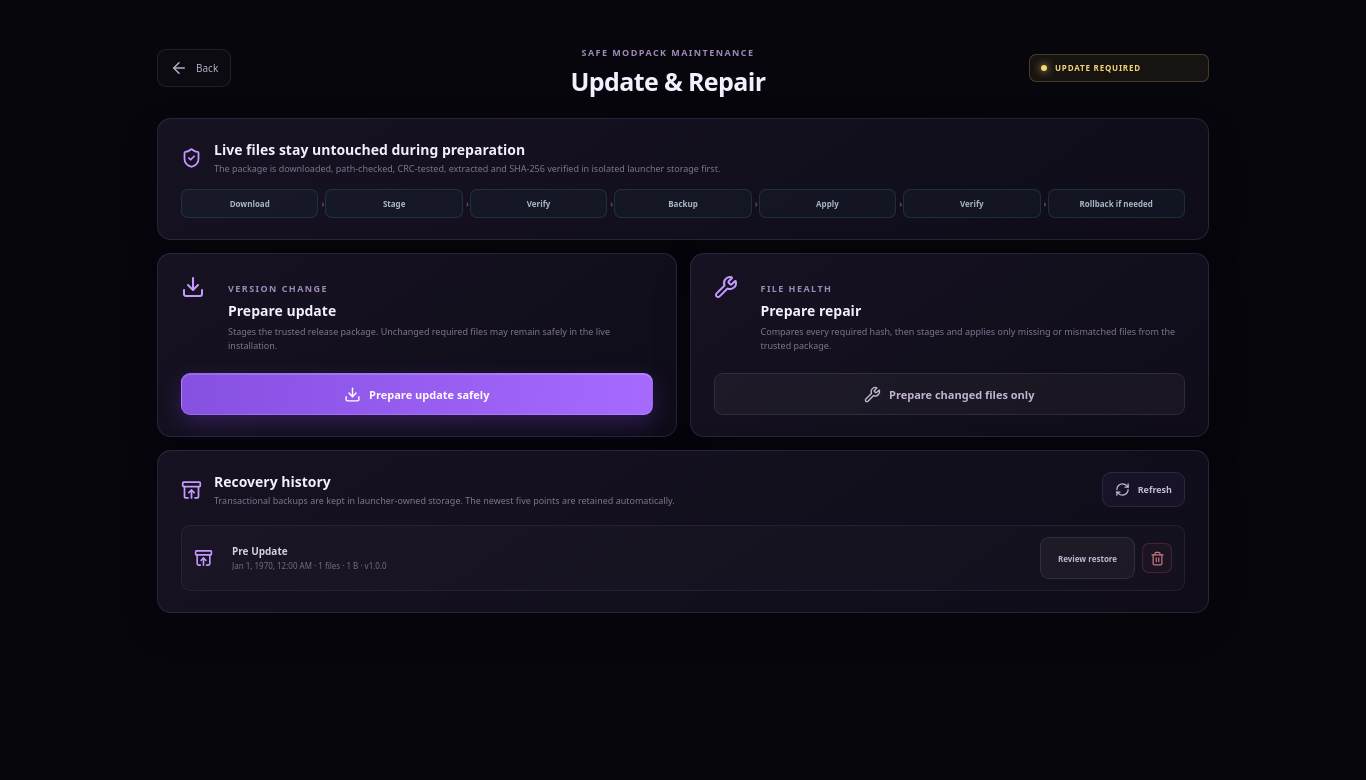
Test case: blocks update and repair while applying a restore
The image size is (1366, 780).
Click the button "Review restore" at (1088, 558), box [1040,537,1135,579]
(page scrolled)
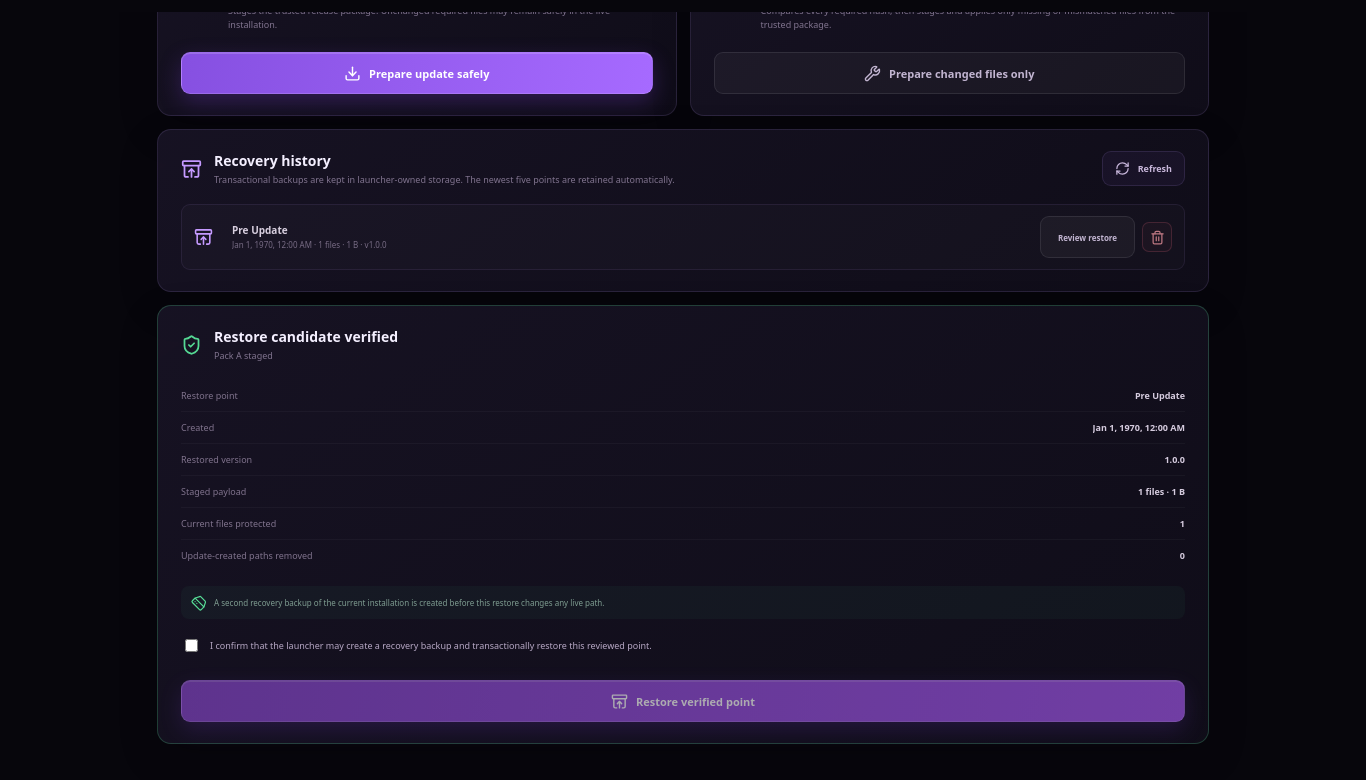
expect the button "Restore verified point" is shown: met, box [181,680,1185,722]
Click the checkbox labelled "I confirm that the launcher may create" at (192, 646), box [185,639,198,652]
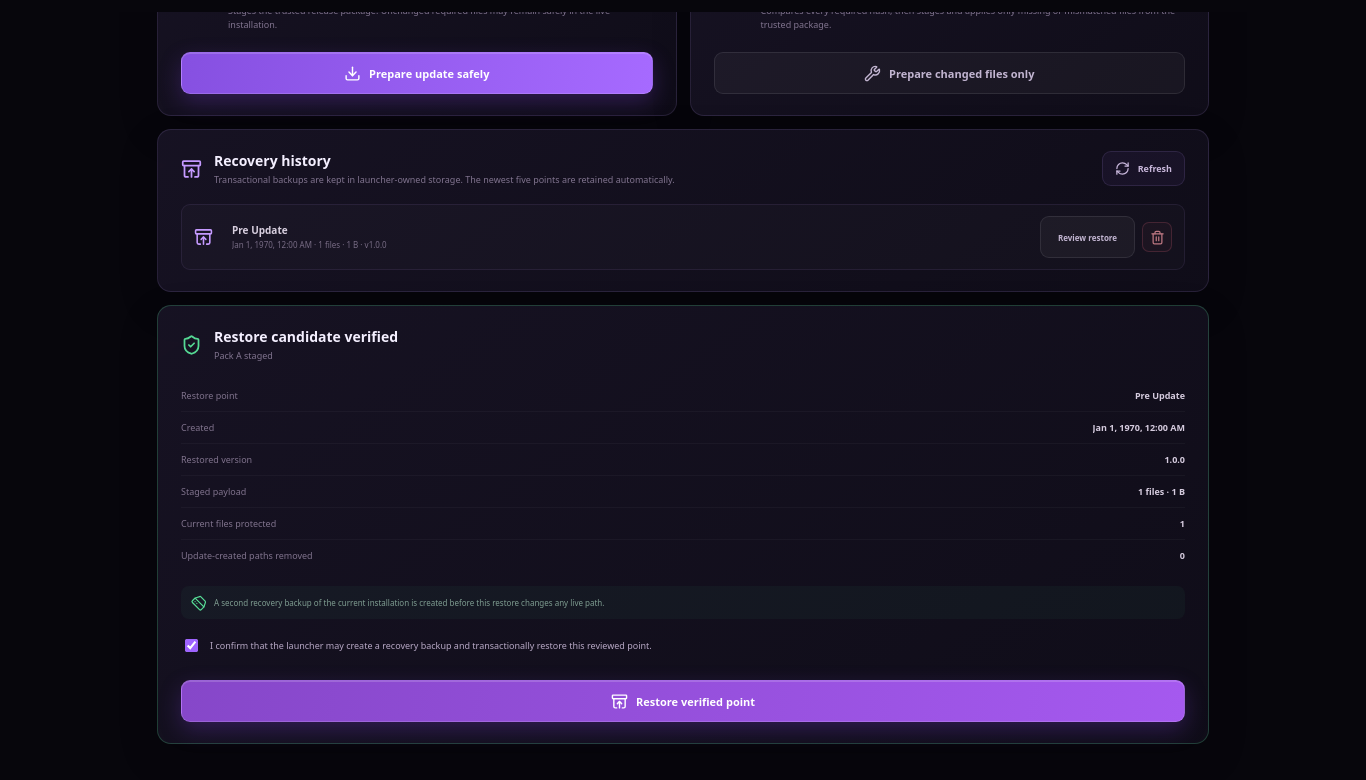
Click the button "Restore verified point" at (683, 701), box [181,680,1185,722]
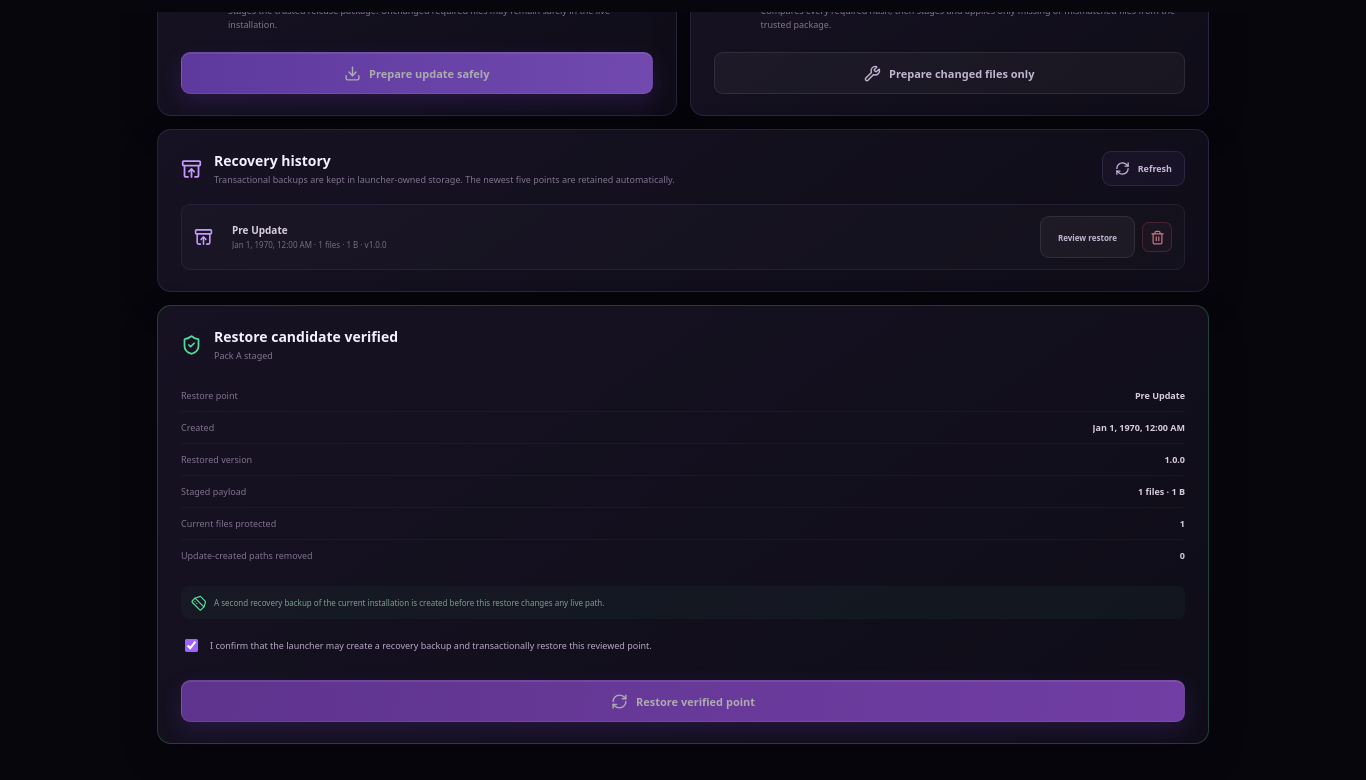
expect the button "Prepare changed files only" is disabled: met, box [714,52,1185,94]
expect the button "Prepare update safely" is disabled: met, box [181,52,652,94]
